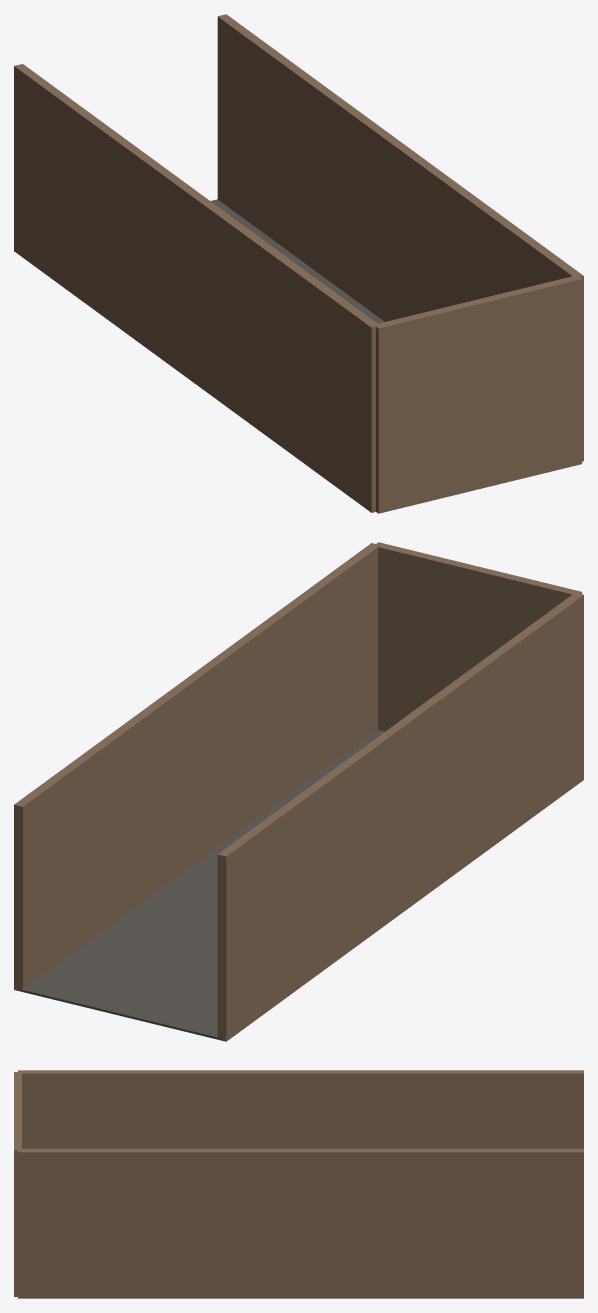
File: 1783-Furniture-interiors-stairwell.glb
3 views of the same model, one above another, from view 1: azimuth 30°, elevation 25°; view 2: azimuth 150°, elevation 25°; view 3: azimuth 270°, elevation 25° (orthographic). The views are drawn at different scales.
Visible parts, largest first — view 1: Furniture (interiors)/stairwell; view 2: Furniture (interiors)/stairwell; view 3: Furniture (interiors)/stairwell.
Boxes of the visible parts, left/top/right/bottom form: Furniture (interiors)/stairwell: left=14, top=14, right=583, bottom=513; Furniture (interiors)/stairwell: left=14, top=542, right=583, bottom=1041; Furniture (interiors)/stairwell: left=14, top=1070, right=583, bottom=1298.
Size of the model in its own units: 1.2 by 1 by 3.52.
